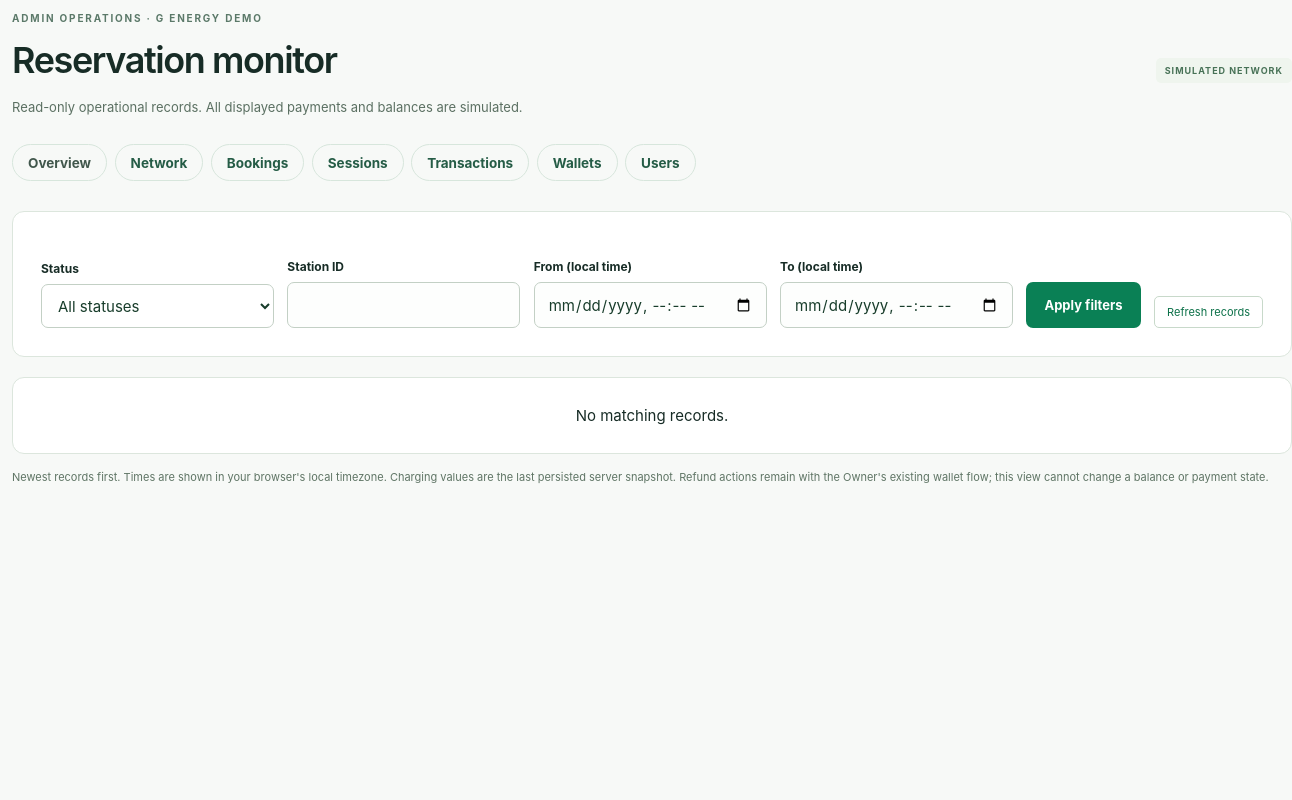
booking history handles loading empty error refresh and persisted session references
expect the text "No matching records." is shown: met, box [12,377,1291,454]
Click the button "Refresh records" at (1209, 312), box [1154,296,1263,328]
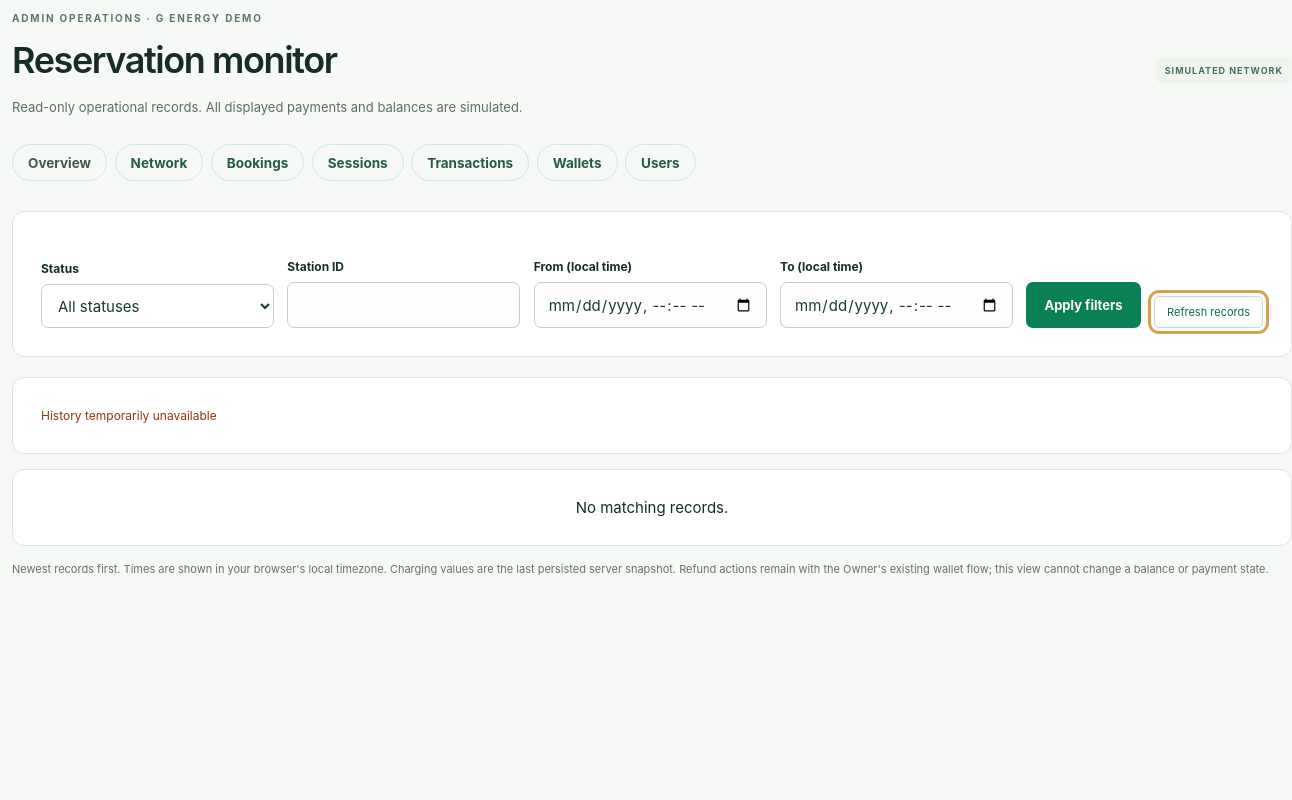
expect the text "History temporarily unavailable" is shown: met, box [12,377,1291,454]
Click the button "Refresh records" at (1209, 312), box [1154,296,1263,328]
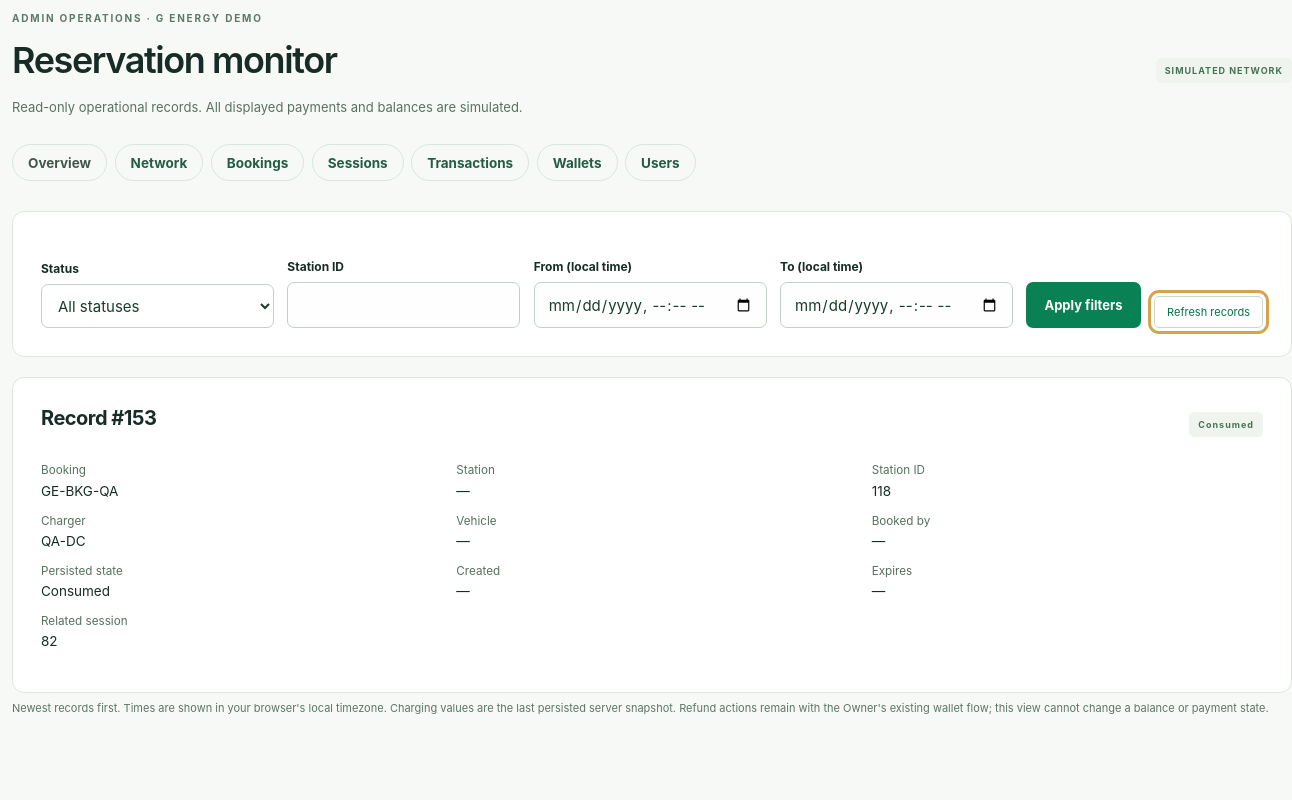
expect the text "GE-BKG-QA" is shown: met, box [41,483,118,499]
expect the text "82" is shown: met, box [41,634,58,650]
expect the text "History temporarily unavailable" is gone: met
